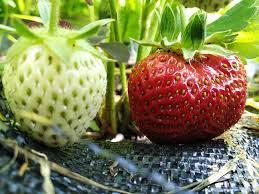ripe: (125, 41, 253, 148)
unripe: (3, 30, 109, 146)
